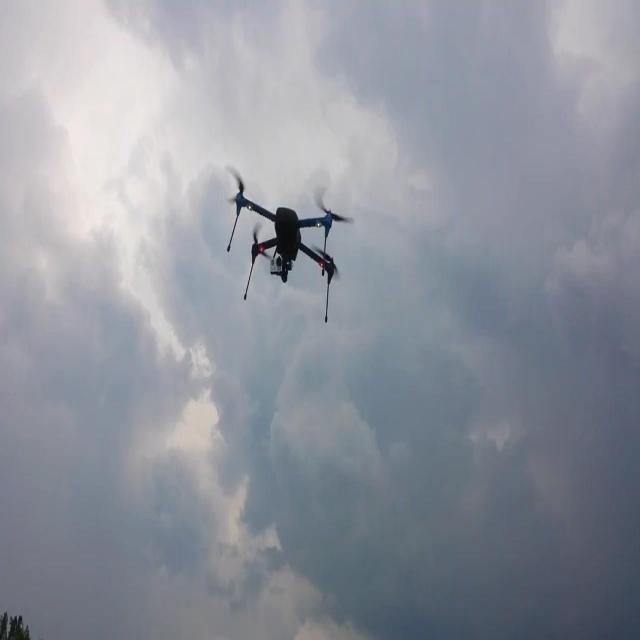UAV: (224, 164, 355, 324)
